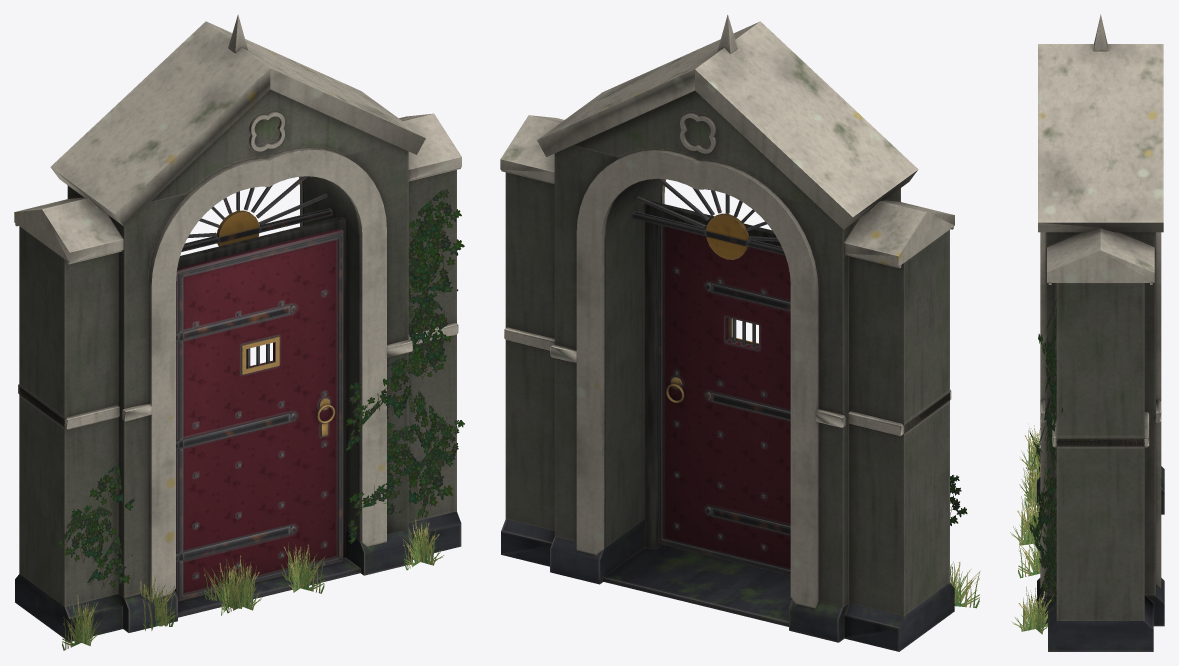
The model's file is GateWicket.fbx.
3 renders of one model, left to right at view 1: azimuth 30°, elevation 25°; view 2: azimuth 150°, elevation 25°; view 3: azimuth 270°, elevation 25°, orthographic. The views are drawn at different scales.
Visible parts, largest first — view 1: GateWicket_Main, GateWicket_Door0, GateWicket_Leaves; view 2: GateWicket_Main, GateWicket_Door0, GateWicket_Leaves; view 3: GateWicket_Main, GateWicket_Leaves.
Boxes of the visible parts, x1=… form: GateWicket_Main: x1=14, y1=14, x2=461, y2=641; GateWicket_Door0: x1=175, y1=228, x2=343, y2=601; GateWicket_Leaves: x1=57, y1=189, x2=464, y2=650; GateWicket_Main: x1=500, y1=14, x2=954, y2=651; GateWicket_Door0: x1=658, y1=225, x2=790, y2=575; GateWicket_Leaves: x1=950, y1=475, x2=980, y2=608; GateWicket_Main: x1=1037, y1=14, x2=1164, y2=651; GateWicket_Leaves: x1=1010, y1=299, x2=1062, y2=634.
Size of the model in its own units: 851 by 1093 by 282.
